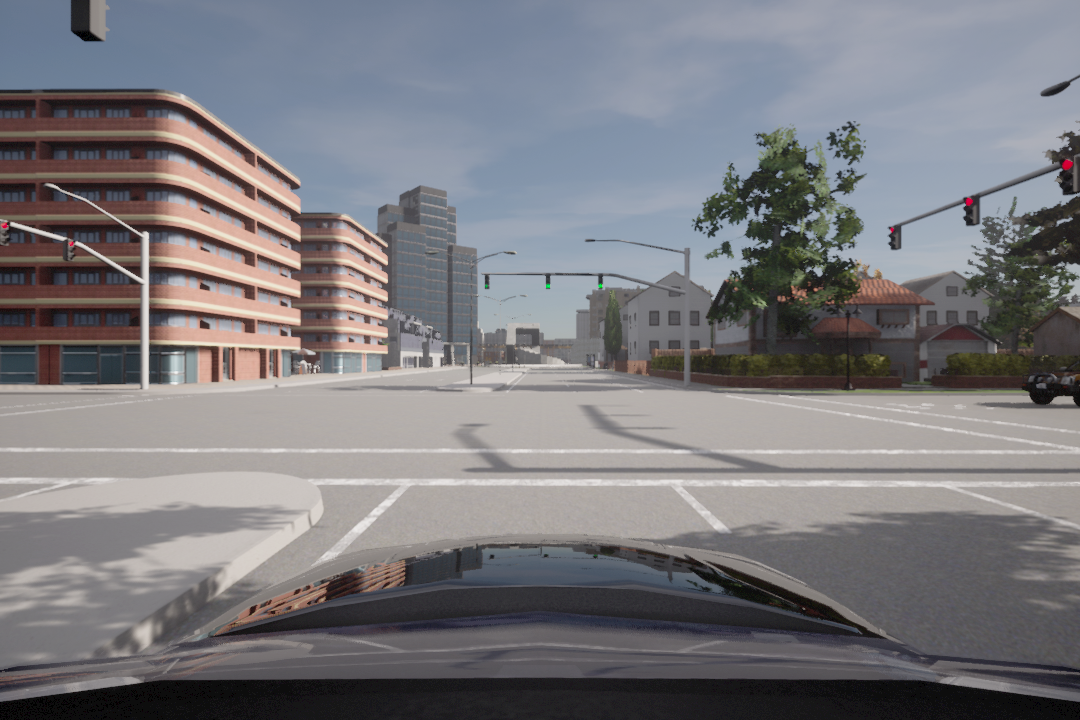TrafficLight: (1053, 153, 1080, 197), (961, 192, 985, 227), (887, 224, 911, 251), (62, 238, 77, 264), (1, 214, 12, 245), (482, 273, 493, 291), (543, 272, 554, 290), (596, 273, 607, 291)
